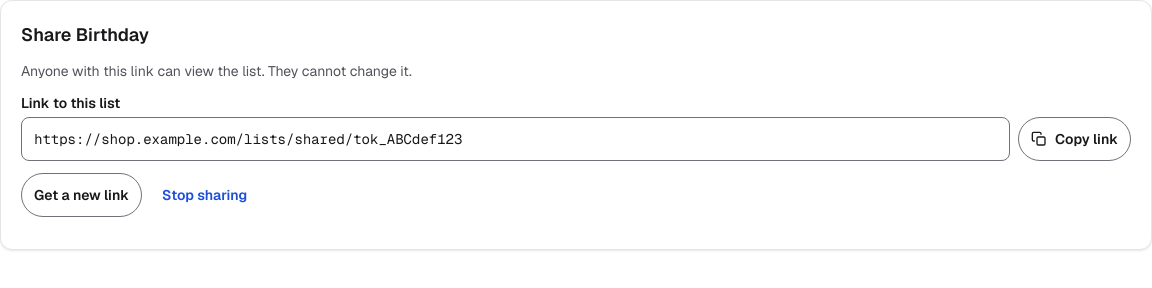
ShareListPanel: with JS › Copy link with missing clipboard falls back to the selected readonly field
The width and height of the screenshot is (1152, 288).
What coordinates should you click on to do the following:
click the button "Copy link"
I would click on:
 (1075, 139)
Its box is [1018,117,1131,161].
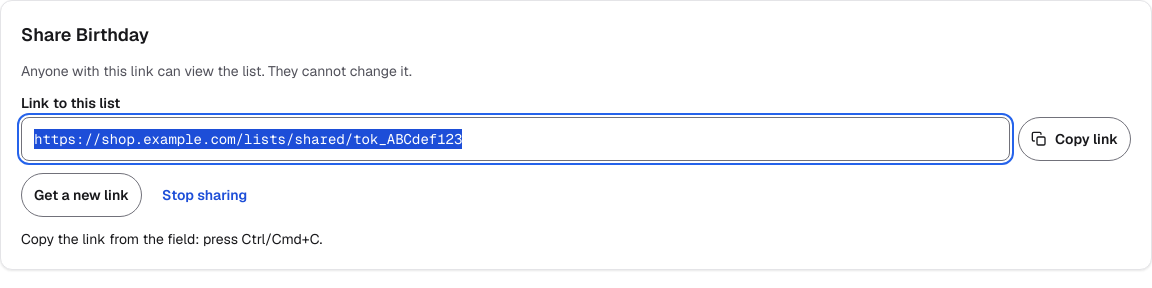
Now the text with test id "share-status" reads "Copy the link from the field: press Ctrl/Cmd+C.", box [21,230,322,248]
